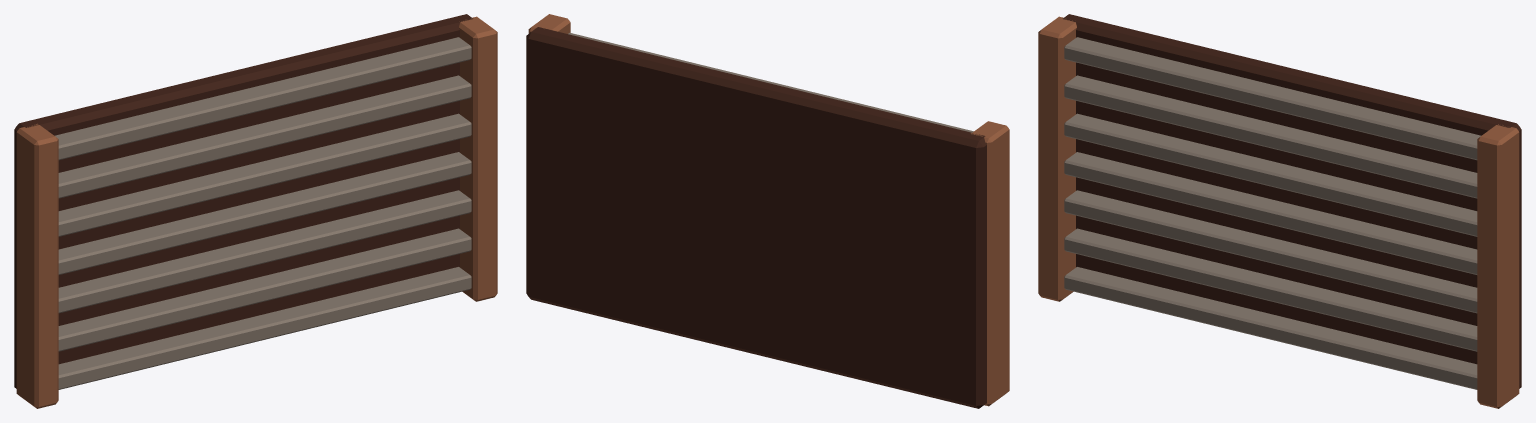
The model's file is vent_grille_01.glb.
3 views of the same model, side by side, from view 1: azimuth 30°, elevation 25°; view 2: azimuth 150°, elevation 25°; view 3: azimuth 330°, elevation 25° (orthographic).
Visible parts, largest first — view 1: Recess, Stile, Louvre_006, Louvre, Louvre_001, Louvre_002, Louvre_003, Louvre_005, Louvre_004, Stile_001; view 2: Recess, Stile, Louvre_006, Stile_001; view 3: Recess, Stile_001, Louvre_006, Louvre, Louvre_001, Louvre_002, Louvre_003, Louvre_005, Louvre_004, Stile.
Part boxes in pixels (x1,y1,x2,y2): Recess: (14,14,473,388); Stile: (16,123,58,408); Louvre_006: (55,37,471,160); Louvre: (58,267,471,389); Louvre_001: (58,228,471,351); Louvre_002: (58,190,471,313); Louvre_003: (58,152,471,274); Louvre_005: (58,75,471,198); Louvre_004: (58,113,471,236); Stile_001: (459,16,497,301); Recess: (526,27,986,408); Stile: (971,121,1009,406); Louvre_006: (568,33,973,132); Stile_001: (528,14,570,33); Recess: (1062,14,1521,388); Stile_001: (1477,124,1519,408); Louvre_006: (1064,37,1480,160); Louvre: (1064,267,1477,389); Louvre_001: (1064,228,1477,351); Louvre_002: (1064,190,1477,313); Louvre_003: (1064,152,1477,274); Louvre_005: (1064,75,1477,198); Louvre_004: (1064,113,1477,236); Stile: (1038,16,1076,301).
Bounding box in the file's own units: 0.76 × 0.42 × 0.0775.
